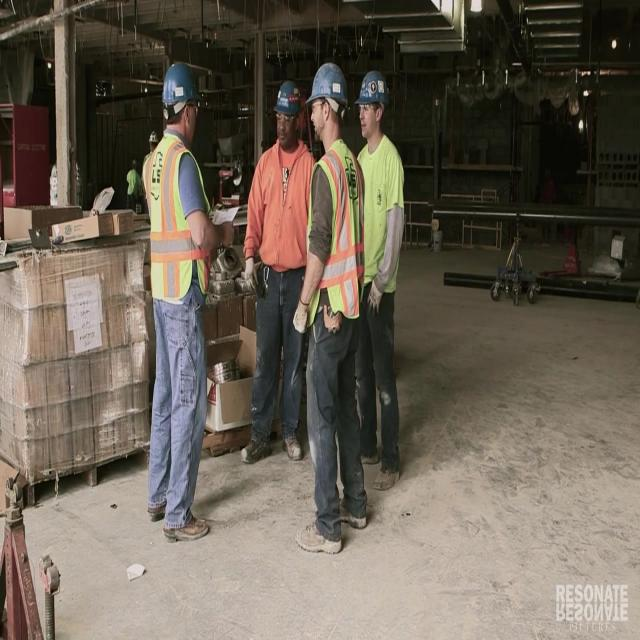Reflective-Jacket: (137, 133, 220, 314), (300, 140, 373, 334), (351, 134, 413, 319)
Safety-Helmet: (152, 53, 208, 123), (303, 54, 352, 121), (354, 61, 394, 116), (267, 72, 305, 126)
